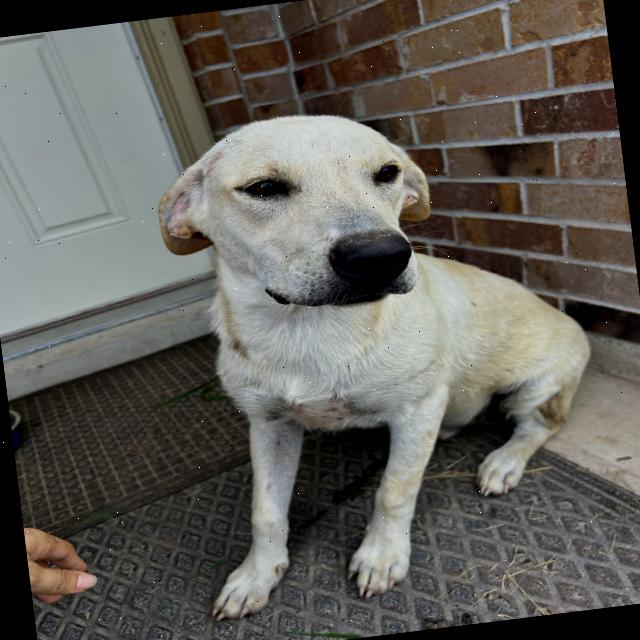labrador_retriever_dog: (139, 79, 466, 348)
